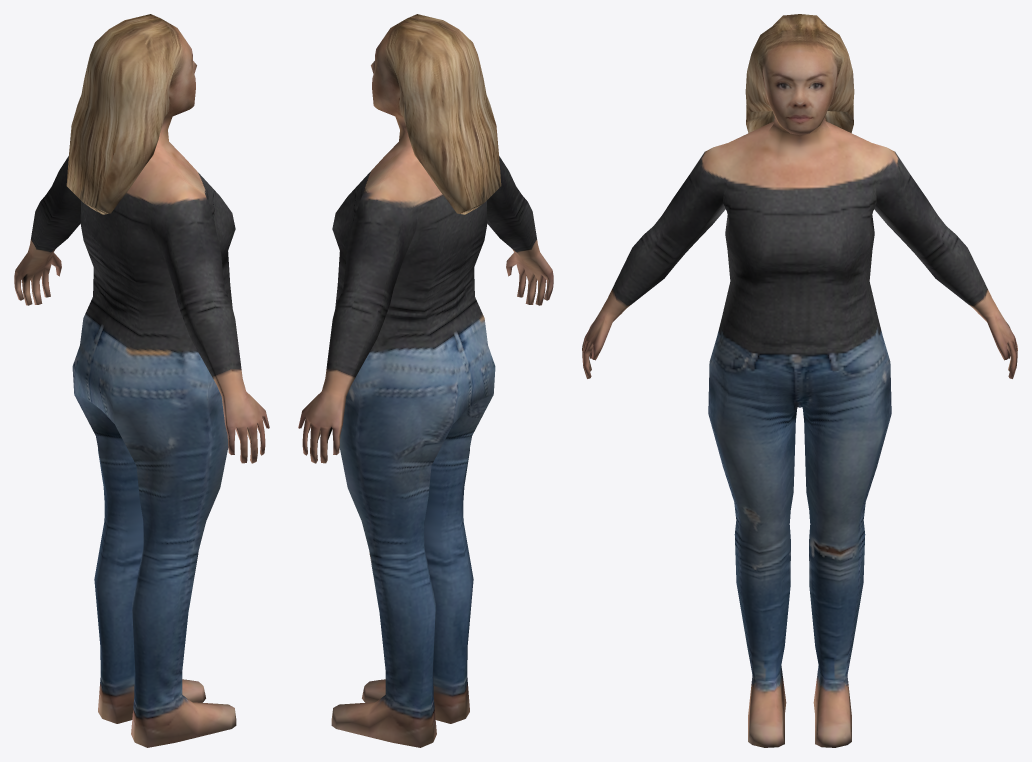
The model's file is Character_53_Female.fbx.
3 views of the same model, side by side, from view 1: azimuth 30°, elevation 25°; view 2: azimuth 150°, elevation 25°; view 3: azimuth 270°, elevation 25° (orthographic).
Parts seen in each view (by area): view 1: Character_53_Female; view 2: Character_53_Female; view 3: Character_53_Female.
Boxes of the visible parts, left/top/right/bottom form: Character_53_Female: left=14, top=14, right=269, bottom=747; Character_53_Female: left=298, top=14, right=553, bottom=747; Character_53_Female: left=582, top=14, right=1017, bottom=747.
Size of the model in its own units: 0.3404 by 1.67 by 0.9563.
